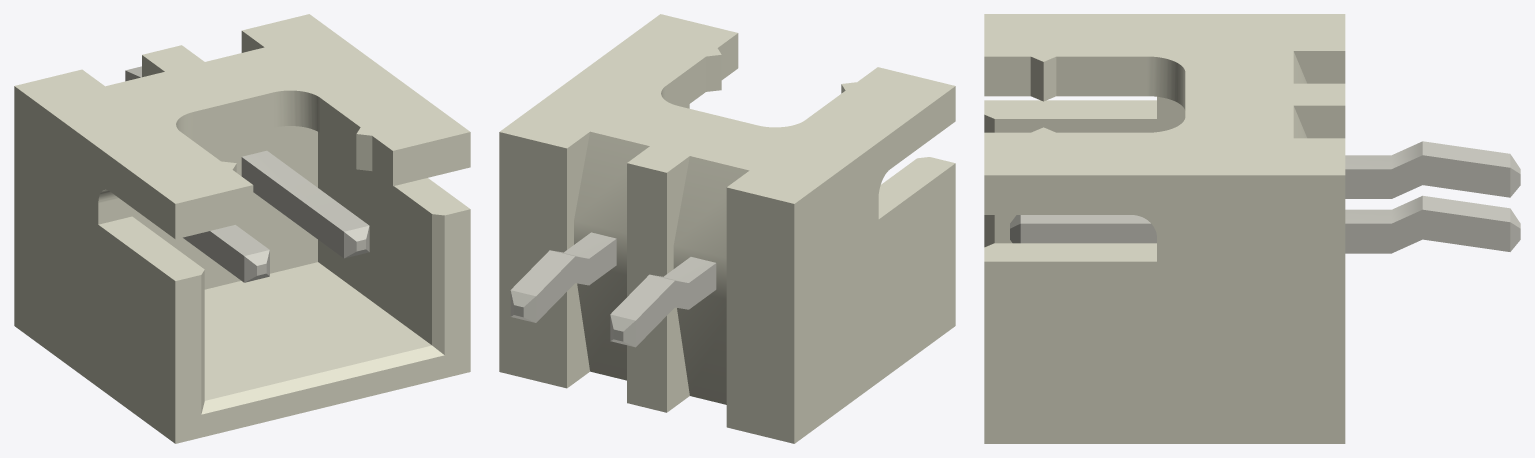
The model's file is jst-xh-2.glb.
The picture shows the model from 3 angles, left to right: view 1: azimuth 30°, elevation 25°; view 2: azimuth 150°, elevation 25°; view 3: azimuth 270°, elevation 25°; orthographic projection. The views are drawn at different scales.
Visible parts, largest first — view 1: PLASTIC-WHITE-01, PIN-01; view 2: PLASTIC-WHITE-01, PIN-01; view 3: PLASTIC-WHITE-01, PIN-01.
Part boxes in pixels (x1,y1,x2,y2): PLASTIC-WHITE-01: (14,14,470,443); PIN-01: (125,66,369,282); PLASTIC-WHITE-01: (499,14,955,443); PIN-01: (510,232,716,347); PLASTIC-WHITE-01: (984,14,1345,443); PIN-01: (1010,141,1520,253).
Size of the model in its own units: 7.4 by 5.75 by 10.4.
